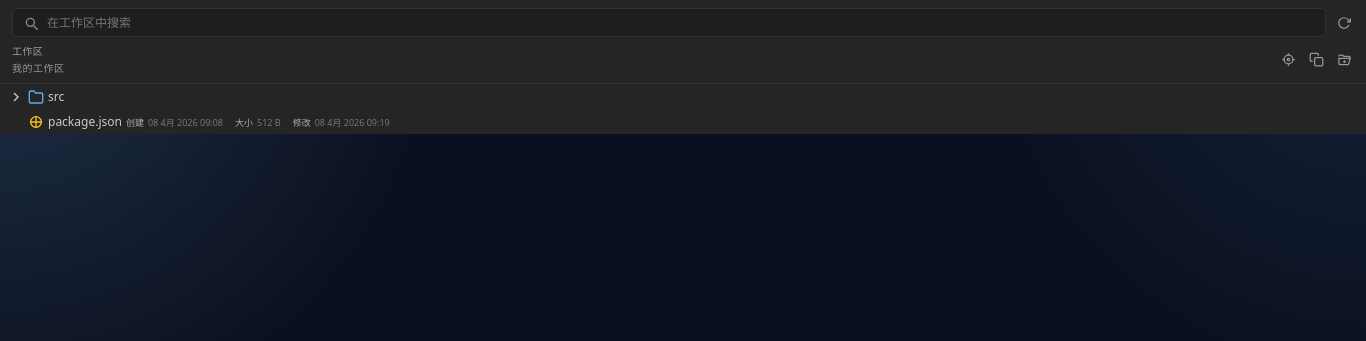
FileTree.vue › 右键菜单 › 文件树空白区域右键应使用工作区创建菜单
Right-click the element with class "file-tree-content" at (85, 122), box [8,88,390,130]
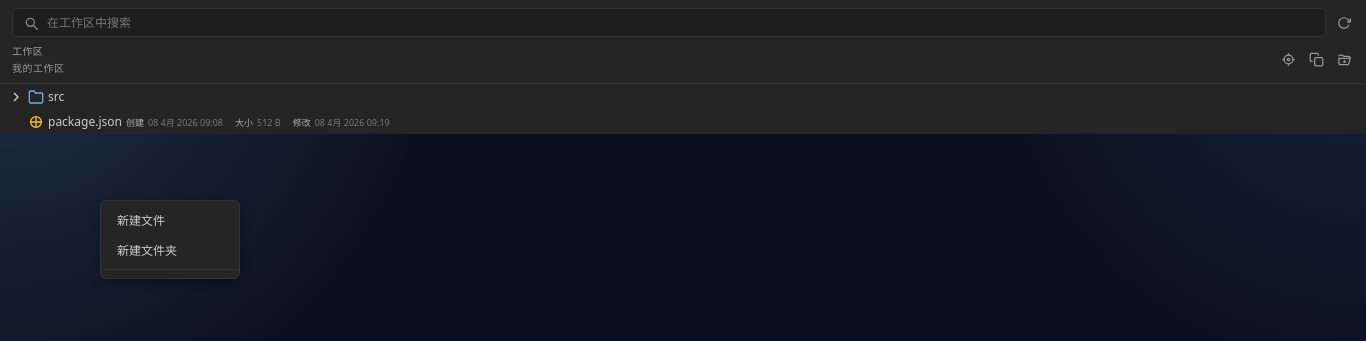
Result: the element with class "context-menu" is shown at [100,200,240,279]
